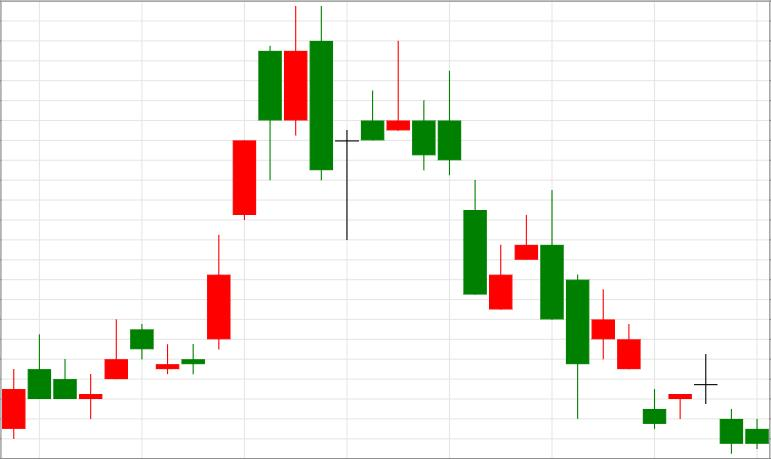bearish_engulfing_fall: (157, 7, 332, 376)
